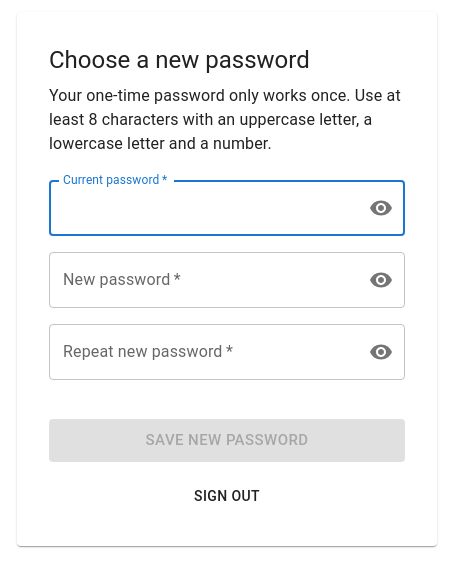
ChangePasswordPage › keeps Save disabled until all three fields are filled and the two new passwords match
Expected: the button "Save new password" is disabled, top-left (49, 419), bottom-right (405, 462)
Type "OneTime123" into the password field labelled "Current password *". click: (200, 208)
box: top-left (49, 180), bottom-right (351, 236)
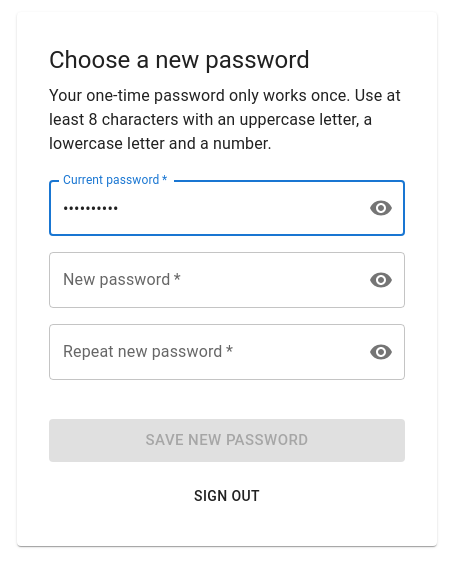
Type "Brand-New-9" into the password field labelled "New password *". click: (200, 280)
box: top-left (49, 252), bottom-right (351, 308)
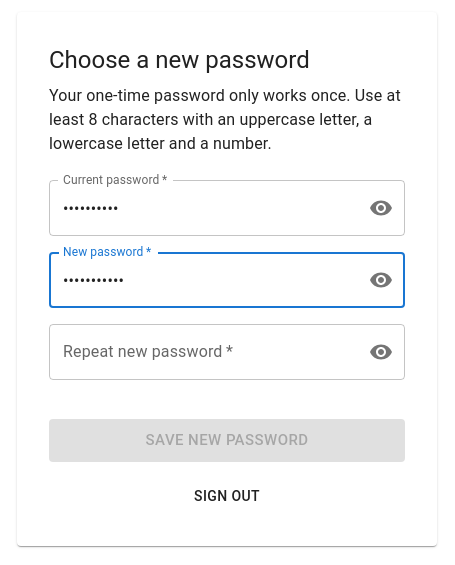
Expected: the button "Save new password" is disabled, top-left (49, 419), bottom-right (405, 462)
Type "Brand-New-9" into the password field labelled "Repeat new password *". click: (200, 352)
box: top-left (49, 324), bottom-right (351, 380)
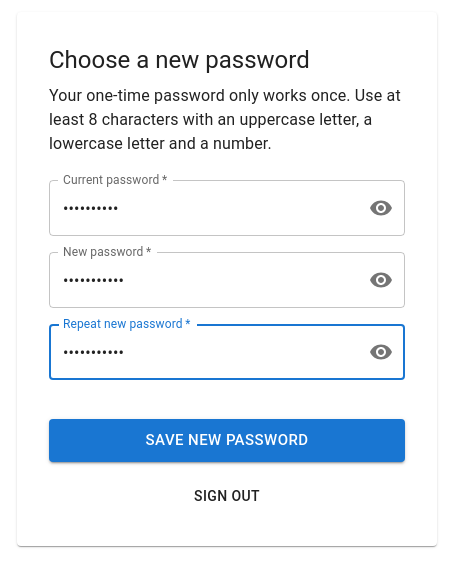
Expected: the button "Save new password" is enabled, top-left (49, 419), bottom-right (405, 462)
